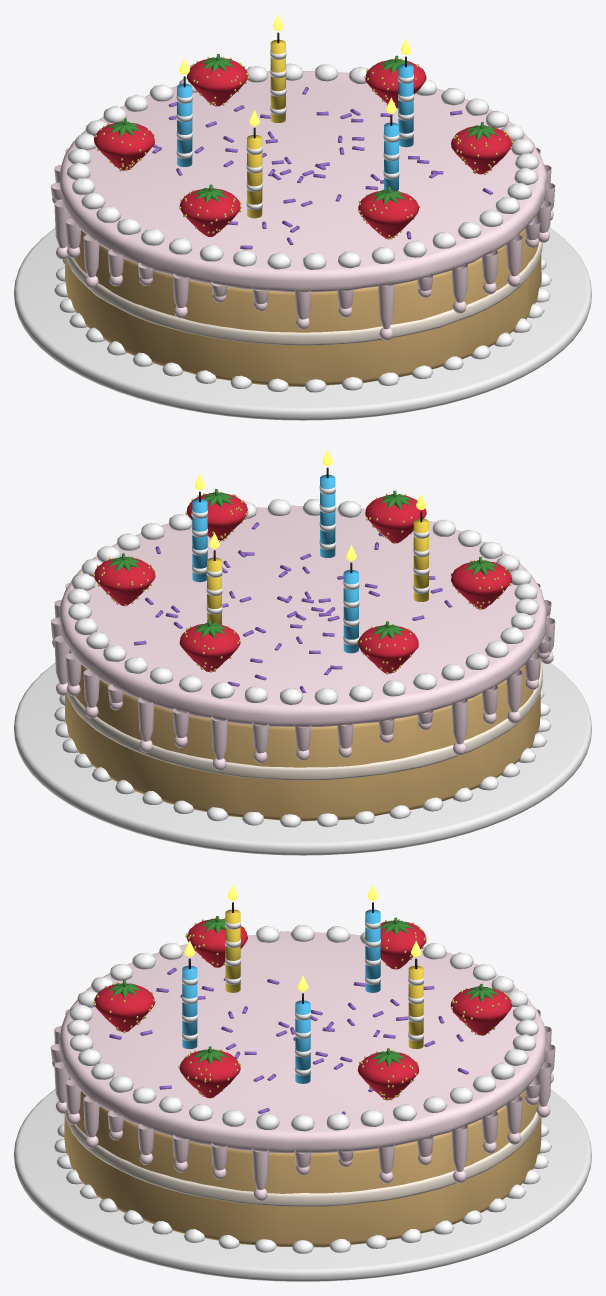
File: items-cake.glb
3 views of the same model, one above another, from view 1: azimuth 30°, elevation 25°; view 2: azimuth 150°, elevation 25°; view 3: azimuth 270°, elevation 25° (orthographic).
Parts seen in each view (by area): view 1: Cake__Frosting, Cake__Sponge, Cake__Plate, Cake__PipedBorder, Cake__Drips, Cake__CreamLayer, Cake__Candles1, Cake__Sprinkles, Cake__CandleStripes, Cake__Candles2, Cake__Berry5Body, Cake__Berry3Body (+5 smaller); view 2: Cake__Frosting, Cake__Sponge, Cake__Plate, Cake__PipedBorder, Cake__Drips, Cake__CreamLayer, Cake__Candles1, Cake__Sprinkles, Cake__CandleStripes, Cake__Berry1Body, Cake__Berry2Body, Cake__Berry4Body (+5 smaller); view 3: Cake__Frosting, Cake__Sponge, Cake__Plate, Cake__PipedBorder, Cake__Drips, Cake__CreamLayer, Cake__Candles1, Cake__CandleStripes, Cake__Candles2, Cake__Sprinkles, Cake__Berry2Body, Cake__Berry5Body (+5 smaller).
Part boxes in pixels (x1,y1,x2,y2): Cake__Frosting: [60, 71, 546, 292]; Cake__Sponge: [65, 215, 541, 386]; Cake__Plate: [14, 227, 591, 420]; Cake__PipedBorder: [54, 63, 551, 392]; Cake__Drips: [50, 148, 555, 340]; Cake__CreamLayer: [66, 241, 542, 345]; Cake__Candles1: [177, 64, 413, 190]; Cake__Sprinkles: [152, 87, 492, 249]; Cake__CandleStripes: [176, 50, 413, 210]; Cake__Candles2: [247, 39, 285, 218]; Cake__Berry5Body: [358, 190, 418, 238]; Cake__Berry3Body: [94, 122, 154, 170]; Cake__Frosting: [59, 505, 546, 727]; Cake__Sponge: [65, 649, 540, 821]; Cake__Plate: [14, 662, 591, 855]; Cake__PipedBorder: [54, 499, 551, 827]; Cake__Drips: [50, 583, 555, 770]; Cake__CreamLayer: [66, 660, 542, 780]; Cake__Candles1: [192, 474, 358, 653]; Cake__Sprinkles: [134, 522, 452, 692]; Cake__CandleStripes: [192, 485, 429, 645]; Cake__Berry1Body: [94, 557, 155, 605]; Cake__Berry2Body: [179, 623, 240, 671]; Cake__Berry4Body: [451, 560, 511, 609]; Cake__Frosting: [59, 931, 546, 1153]; Cake__Sponge: [64, 1077, 541, 1247]; Cake__Plate: [14, 1089, 591, 1281]; Cake__PipedBorder: [54, 925, 551, 1253]; Cake__Drips: [50, 1009, 555, 1201]; Cake__CreamLayer: [64, 1111, 540, 1206]; Cake__Candles1: [182, 909, 380, 1083]; Cake__CandleStripes: [182, 920, 423, 1075]; Cake__Candles2: [225, 909, 423, 1048]; Cake__Sprinkles: [109, 967, 503, 1114]; Cake__Berry2Body: [450, 987, 511, 1035]; Cake__Berry5Body: [94, 983, 155, 1032].
Size of the model in its own units: 34 by 15.35 by 34.
